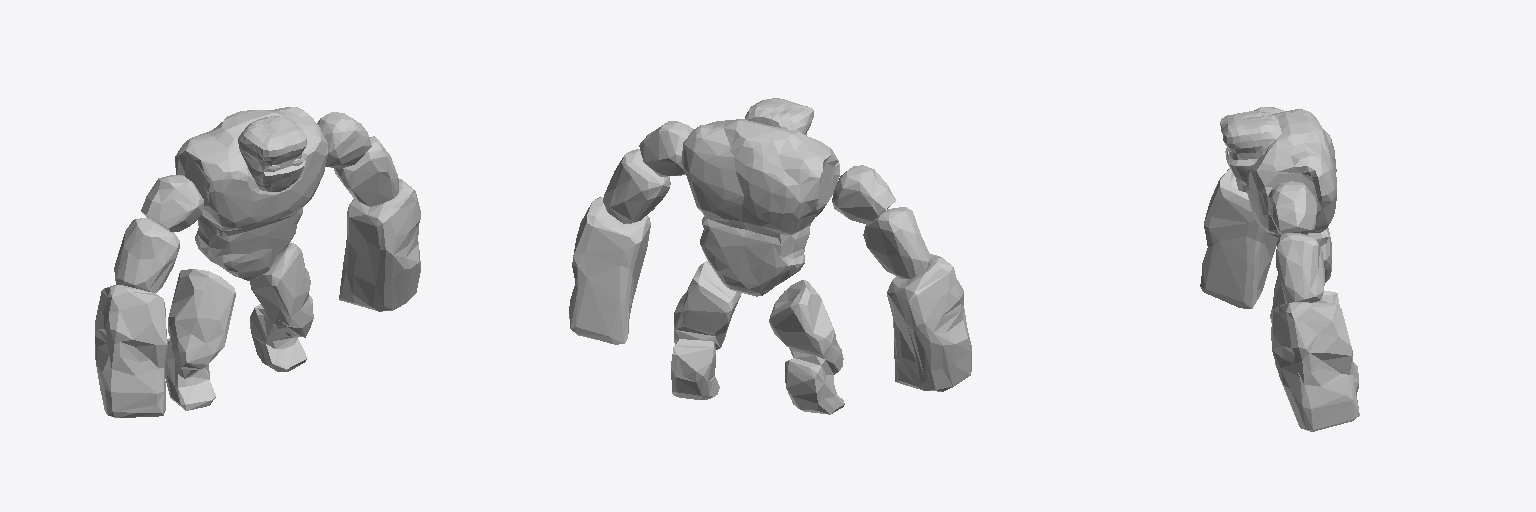
The model's file is Correr2.obj.
3 views of the same model, side by side, from view 1: azimuth 30°, elevation 25°; view 2: azimuth 150°, elevation 25°; view 3: azimuth 270°, elevation 25° (orthographic).
Parts seen in each view (by area): view 1: Correr2:Mesh; view 2: Correr2:Mesh; view 3: Correr2:Mesh.
Boxes of the visible parts, <box> form: Correr2:Mesh: <box>95,107,420,417</box>; Correr2:Mesh: <box>569,98,971,414</box>; Correr2:Mesh: <box>1200,107,1359,431</box>.
Bounding box in the file's own units: 12.88 × 9.72 × 5.02.